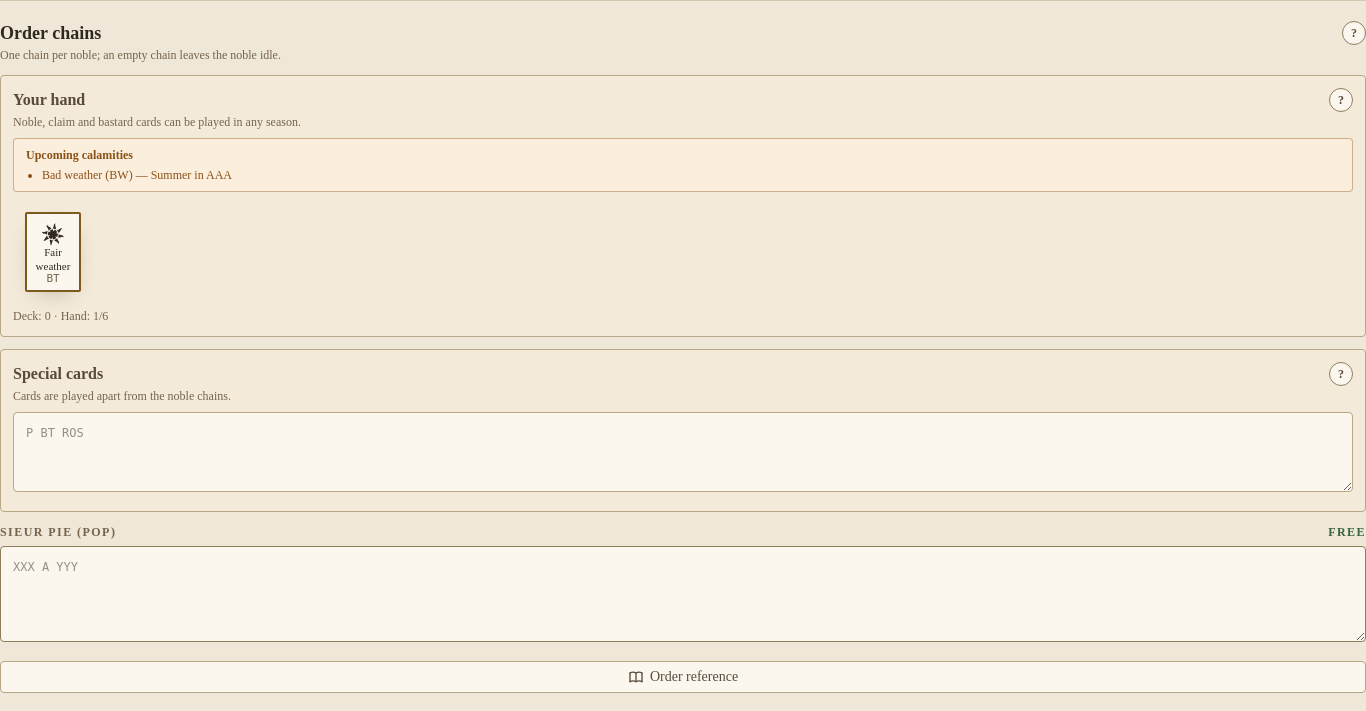
OrdersPanel title and card order dialogs › shows the calamity a bonus card cancels in the chosen region
Click the button "Fair weather BT" at point(53, 252), box top-left (25, 212), bottom-right (81, 292)
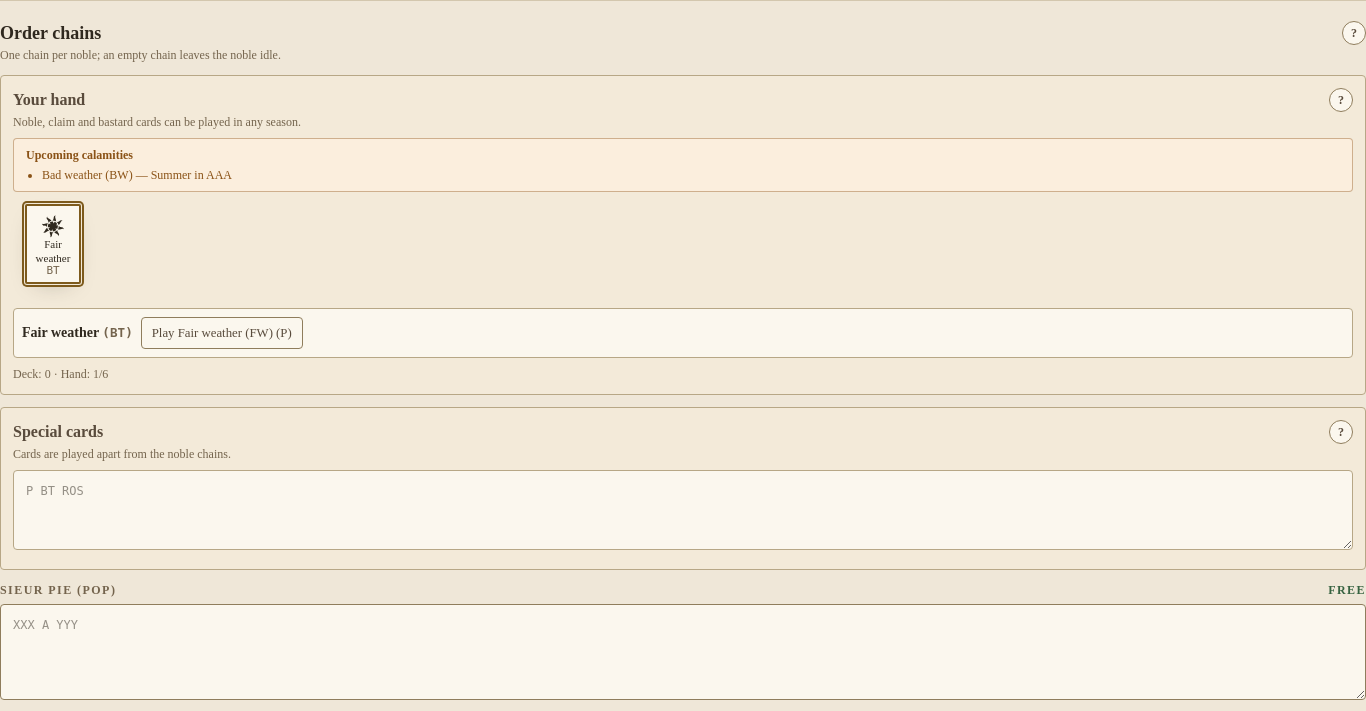
Click the button "Play Fair weather (FW) (P)" at point(222, 333), box top-left (141, 317), bottom-right (303, 349)
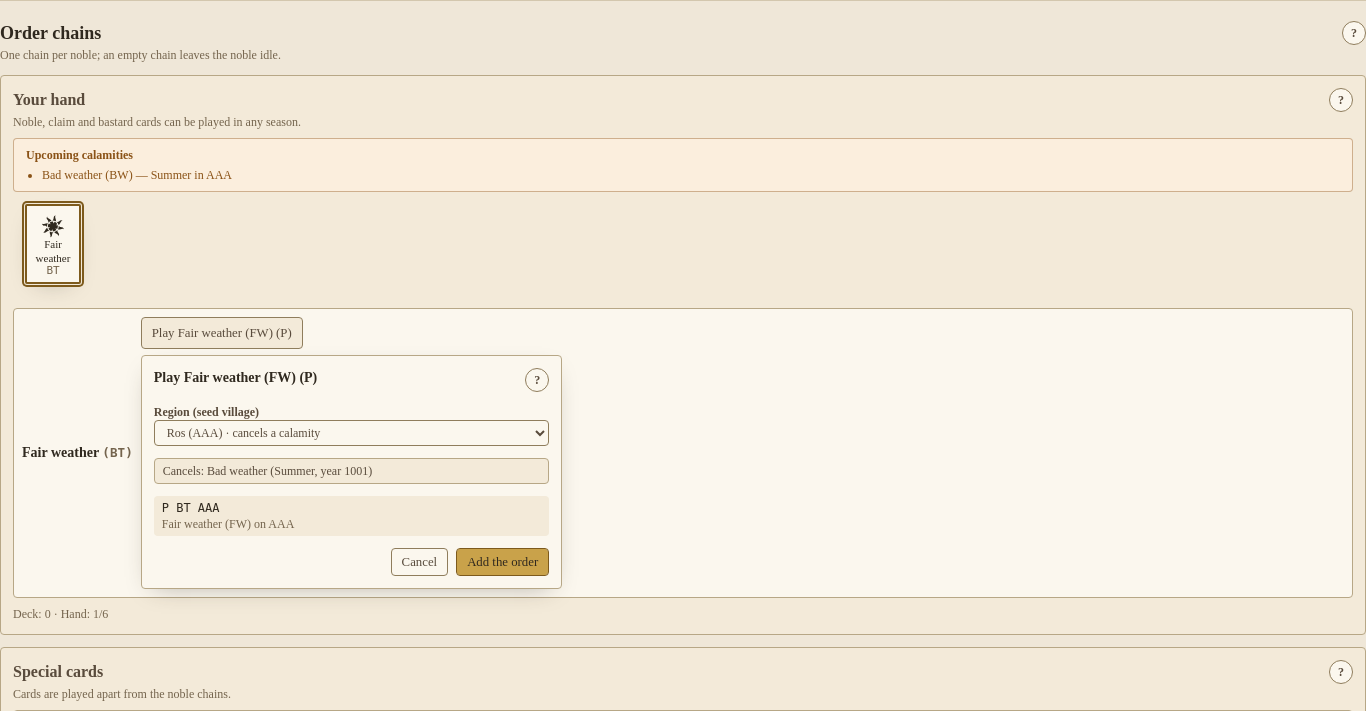
Now the text "Cancels: Bad weather (Summer, year 1001)" is shown, box top-left (154, 458), bottom-right (549, 484)
